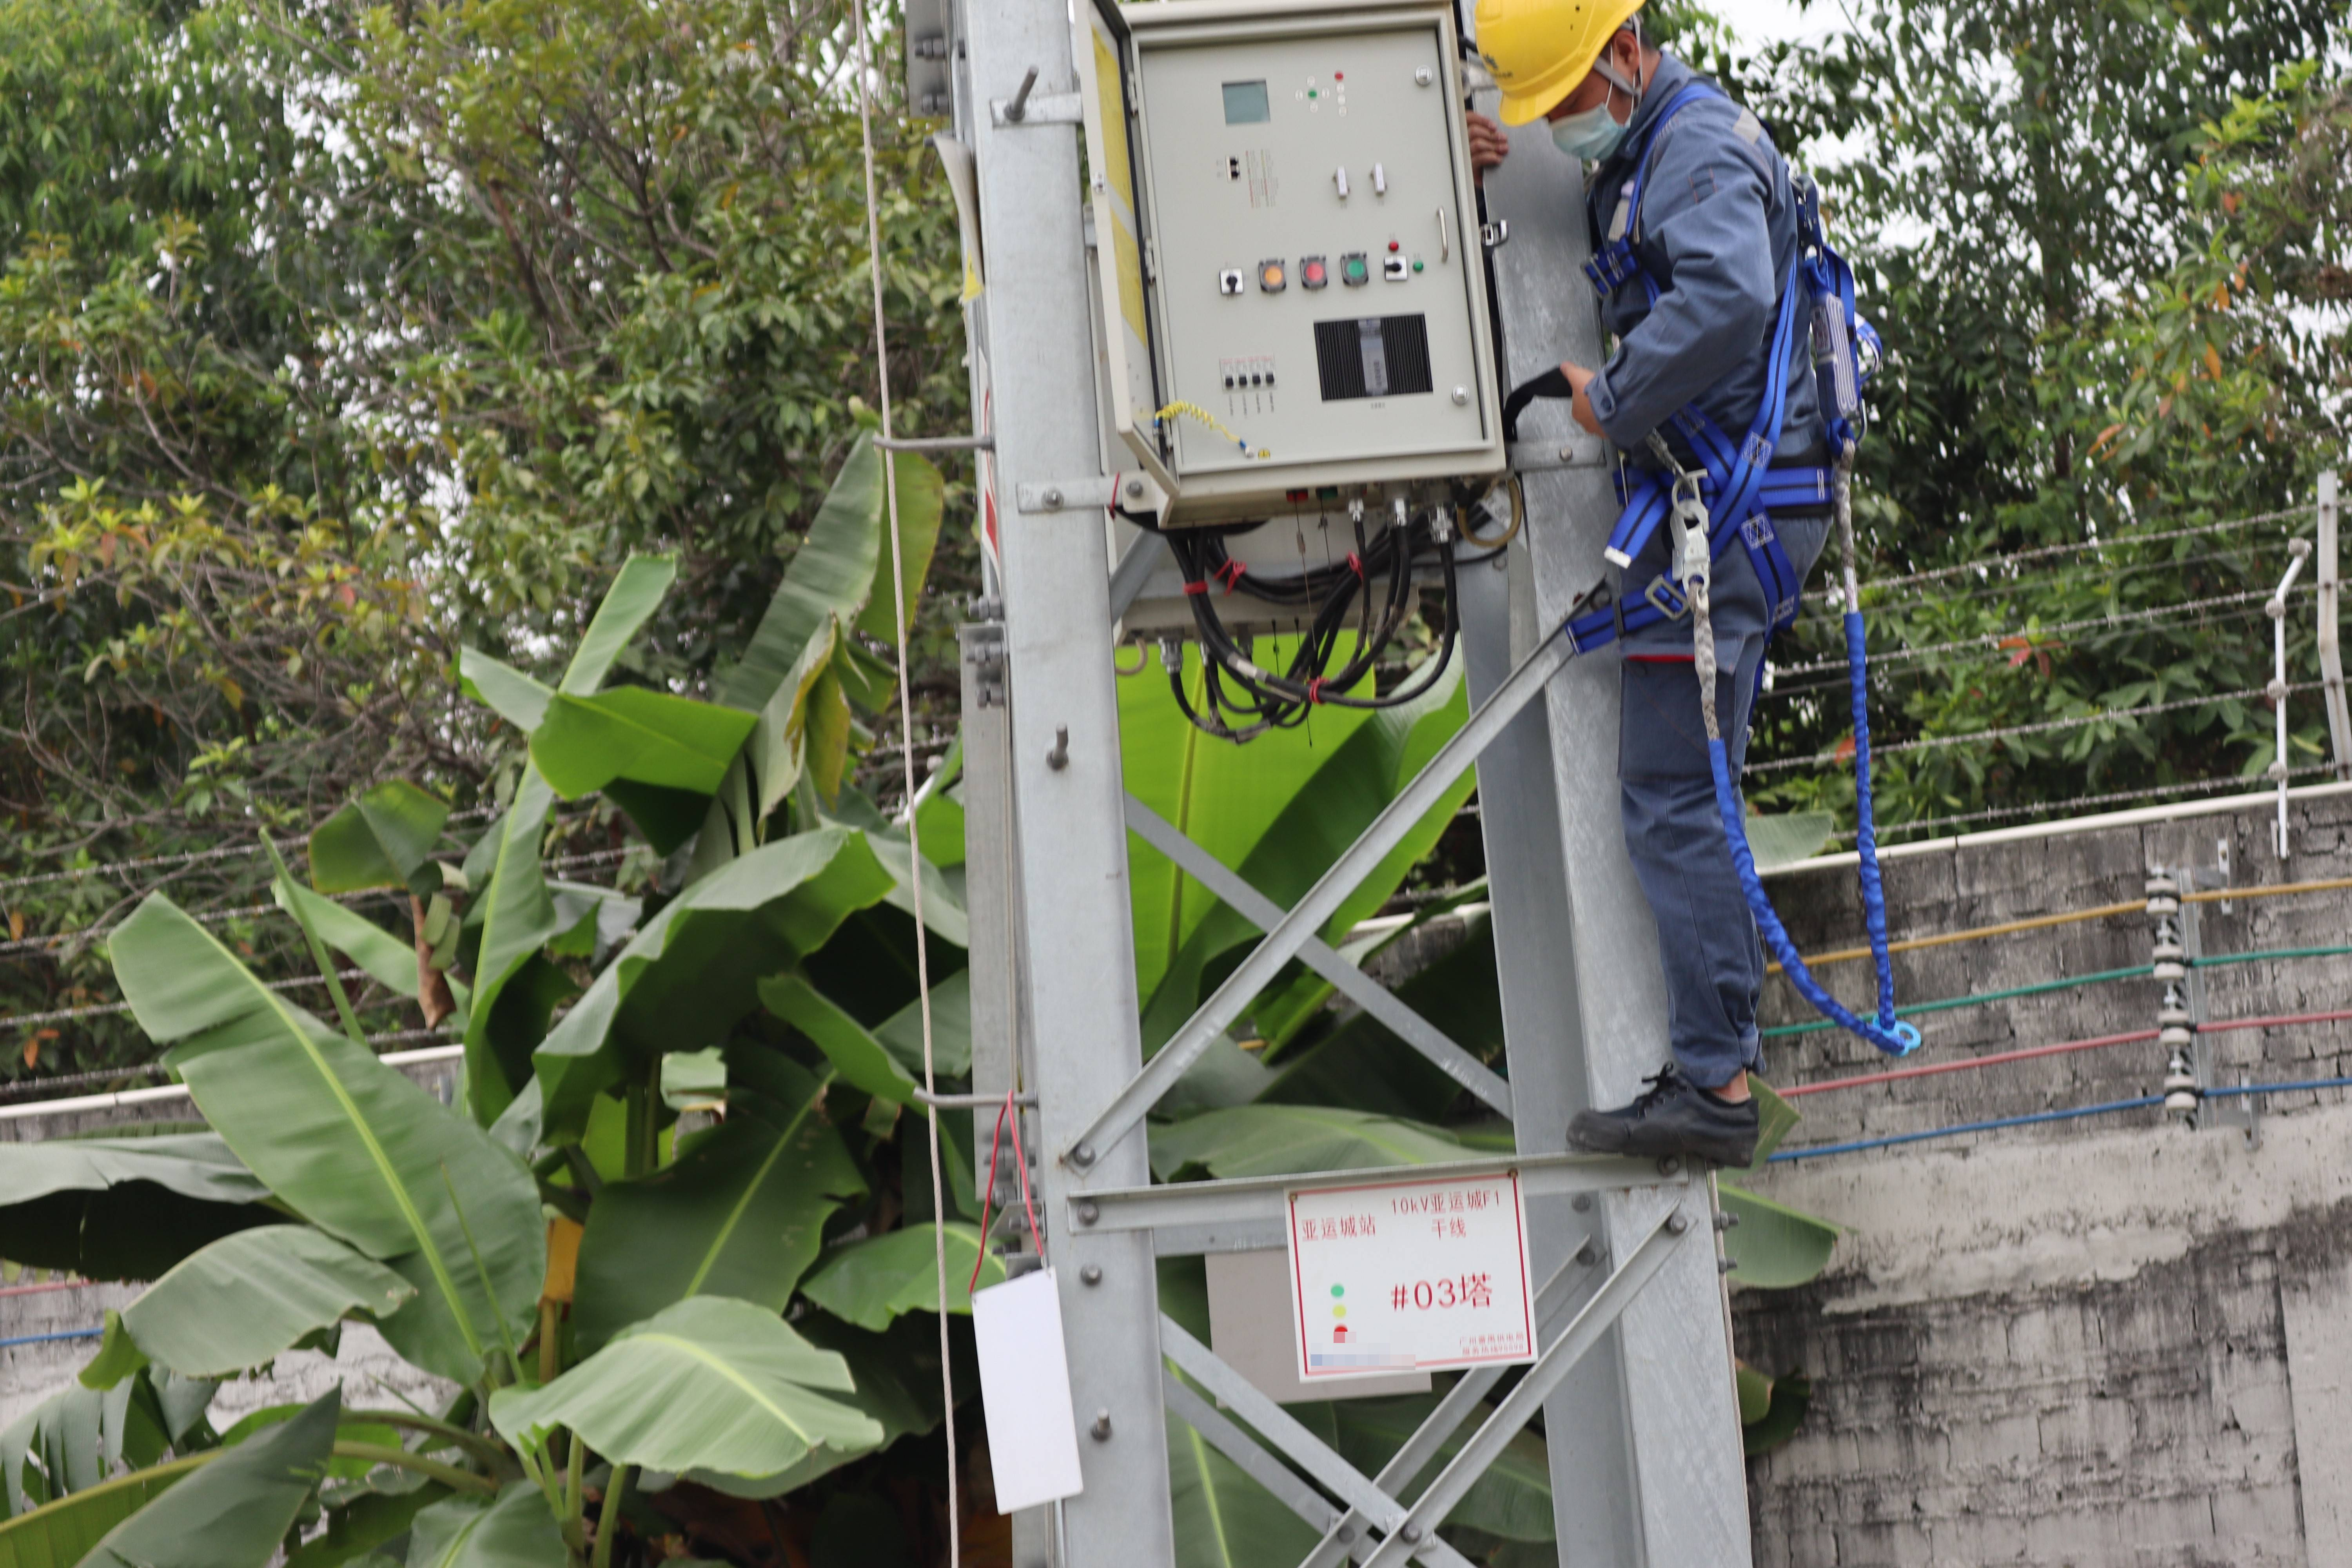downsuit: (1594, 500, 1837, 1085)
upsuit: (1580, 77, 1852, 499)
